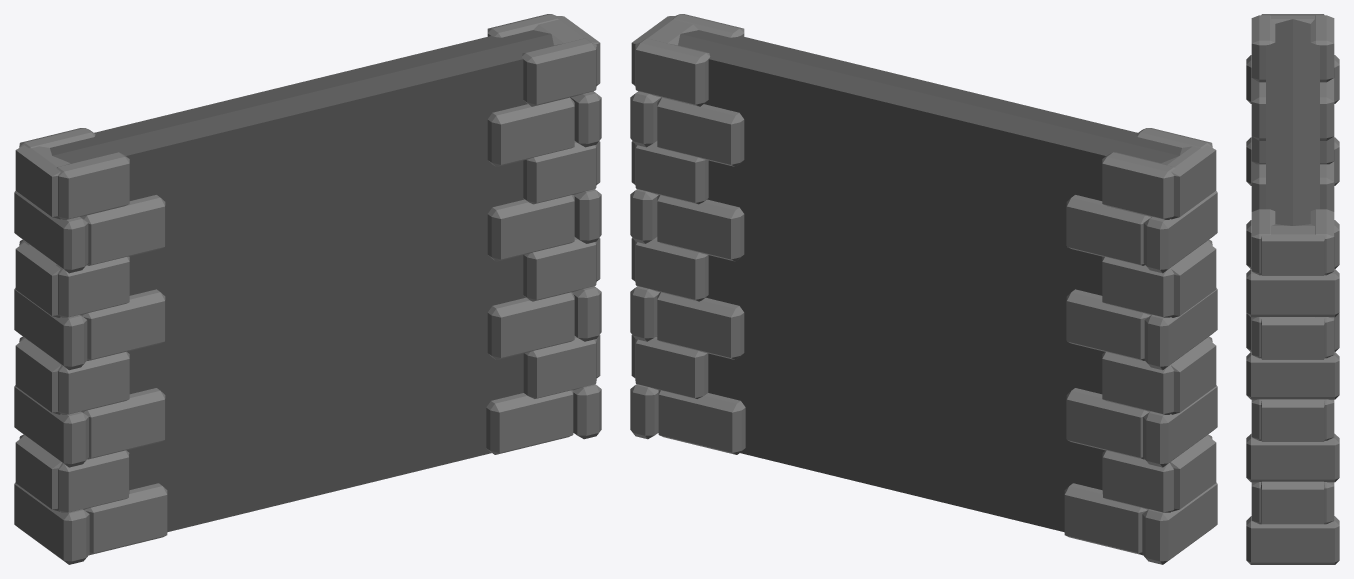
The model's file is DungeonWall.fbx.
3 views of the same model, side by side, from view 1: azimuth 30°, elevation 25°; view 2: azimuth 150°, elevation 25°; view 3: azimuth 270°, elevation 25° (orthographic). The views are drawn at different scales.
Parts seen in each view (by area): view 1: DungeonWall; view 2: DungeonWall; view 3: DungeonWall.
Part boxes in pixels (x1,y1,x2,y2): DungeonWall: [14, 14, 601, 564]; DungeonWall: [630, 14, 1217, 564]; DungeonWall: [1246, 14, 1339, 564].
Size of the model in its own units: 520 by 353 by 90.43.
Materials: 1 (1 with a texture image).
